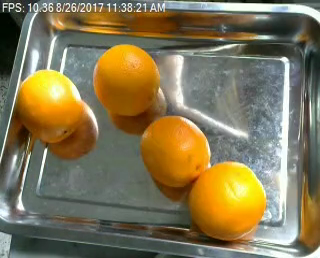Orange: (188, 159, 267, 240), (138, 115, 209, 187), (16, 69, 83, 143), (93, 44, 161, 116)
